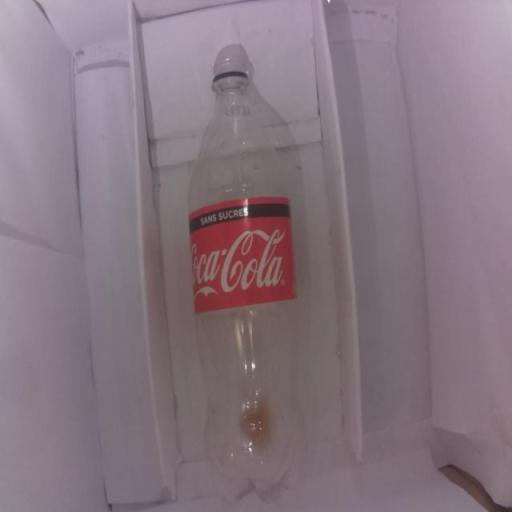plastic: (184, 41, 309, 512)
